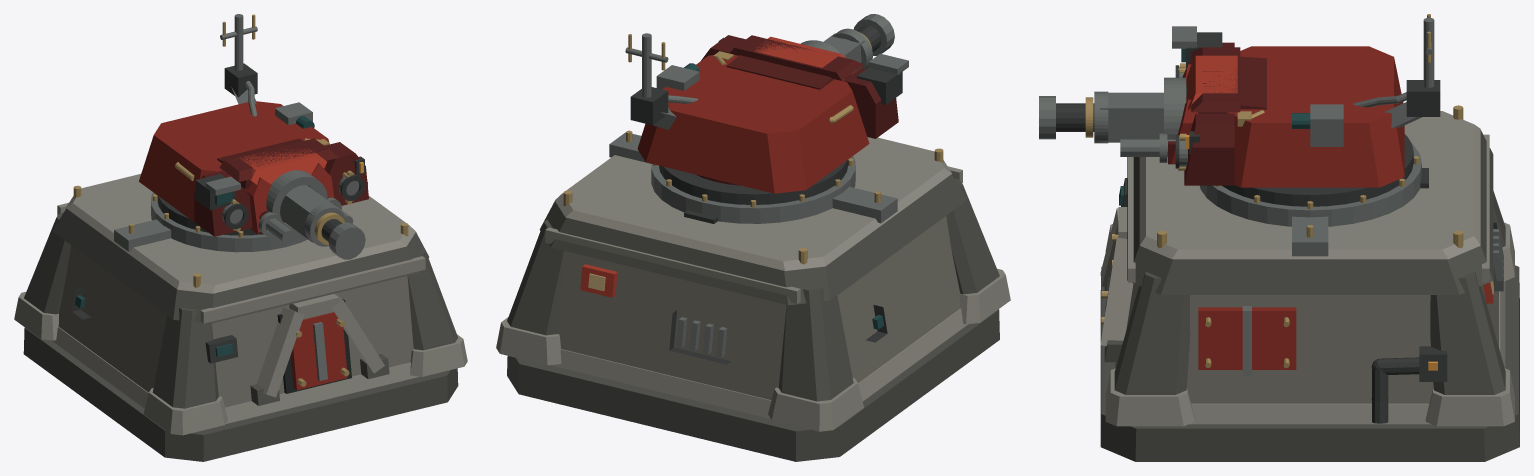
Rendered from martian_heavy_weapon_bunker_v05_blender_export.glb.
3 renders of one model, left to right at view 1: azimuth 30°, elevation 25°; view 2: azimuth 150°, elevation 25°; view 3: azimuth 270°, elevation 25°, orthographic. The views are drawn at different scales.
Visible parts, largest first — view 1: 03_monolithic_bunker_mass, 01_foundation_granular_ferrocrete, 05_top_concrete_skin, 16_martian_red_turret_armor, 04_upper_blast_cap, 06_corner_armor_buttress_WS, 02_lower_blast_raft, 53_south_slab_anchor_strip, 06_corner_armor_buttress_ES, 09_steel_service_hatch, 06_corner_armor_buttress_WN, 13_ring_lower_bearing_seat (+26 smaller); view 2: 03_monolithic_bunker_mass, 16_martian_red_turret_armor, 05_top_concrete_skin, 01_foundation_granular_ferrocrete, 04_upper_blast_cap, 06_corner_armor_buttress_WN, 02_lower_blast_raft, 13_ring_lower_bearing_seat, 06_corner_armor_buttress_EN, 06_corner_armor_buttress_WS, 14_ring_open_bearing_race, 07_corner_buttress_foot_WN (+18 smaller); view 3: 05_top_concrete_skin, 16_martian_red_turret_armor, 03_monolithic_bunker_mass, 01_foundation_granular_ferrocrete, 04_upper_blast_cap, 06_corner_armor_buttress_ES, 06_corner_armor_buttress_EN, 55_east_wall_controller_armor, 02_lower_blast_raft, 13_ring_lower_bearing_seat, 18_turret_front_cheek_E, 07_corner_buttress_foot_ES (+26 smaller).
Boxes of the visible parts, x1,y1,x2,y2 form: 03_monolithic_bunker_mass: [58, 245, 413, 407]; 01_foundation_granular_ferrocrete: [23, 327, 458, 461]; 05_top_concrete_skin: [66, 174, 415, 293]; 16_martian_red_turret_armor: [139, 101, 329, 222]; 04_upper_blast_cap: [52, 208, 429, 323]; 06_corner_armor_buttress_WS: [152, 307, 218, 408]; 02_lower_blast_raft: [52, 327, 419, 423]; 53_south_slab_anchor_strip: [200, 256, 425, 323]; 06_corner_armor_buttress_ES: [407, 248, 457, 350]; 09_steel_service_hatch: [290, 312, 347, 390]; 06_corner_armor_buttress_WN: [24, 212, 70, 314]; 13_ring_lower_bearing_seat: [151, 192, 307, 252]; 03_monolithic_bunker_mass: [557, 216, 960, 400]; 16_martian_red_turret_armor: [637, 54, 869, 193]; 05_top_concrete_skin: [555, 135, 951, 270]; 01_foundation_granular_ferrocrete: [507, 309, 999, 461]; 04_upper_blast_cap: [539, 174, 966, 305]; 06_corner_armor_buttress_WN: [778, 287, 853, 401]; 02_lower_blast_raft: [550, 308, 967, 418]; 13_ring_lower_bearing_seat: [651, 156, 855, 223]; 06_corner_armor_buttress_EN: [507, 219, 564, 335]; 06_corner_armor_buttress_WS: [946, 178, 999, 294]; 14_ring_open_bearing_race: [659, 159, 848, 204]; 07_corner_buttress_foot_WN: [768, 378, 863, 431]; 05_top_concrete_skin: [1139, 111, 1480, 259]; 16_martian_red_turret_armor: [1225, 46, 1404, 187]; 03_monolithic_bunker_mass: [1126, 263, 1498, 403]; 01_foundation_granular_ferrocrete: [1100, 265, 1519, 461]; 04_upper_blast_cap: [1127, 130, 1493, 294]; 06_corner_armor_buttress_ES: [1114, 271, 1190, 394]; 06_corner_armor_buttress_EN: [1430, 271, 1505, 394]; 55_east_wall_controller_armor: [1198, 307, 1296, 369]; 02_lower_blast_raft: [1115, 281, 1505, 424]; 13_ring_lower_bearing_seat: [1200, 144, 1421, 226]; 18_turret_front_cheek_E: [1184, 113, 1234, 185]; 07_corner_buttress_foot_ES: [1105, 368, 1194, 426].
Bounding box in the file's own units: 3.04 × 3.01 × 3.44.
